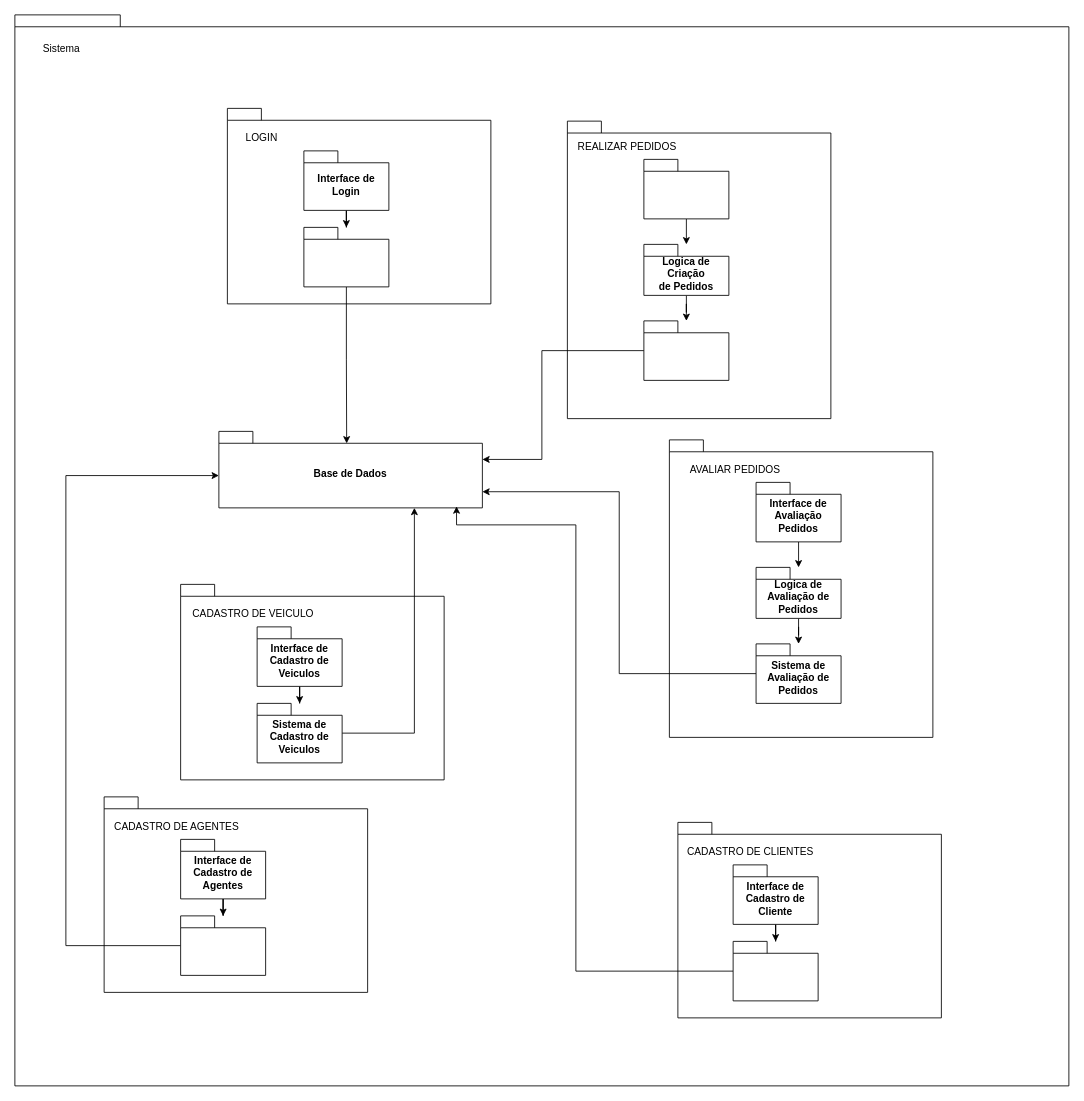
Some shapes in this 1084 by 1101 pixel diagram are drawn without their labels. The centre of each missing label's shape, as x and y in pixels:
"Interface de Criação de Pedidos" goes at (x=686, y=189).
"Sistema de Cadastro de Agentes" goes at (x=223, y=945).
"Sistema de Cadastro de Cliente" goes at (x=775, y=971).
"Sistema de Criação de Pedidos" goes at (x=686, y=350).
"Sistema de Login" goes at (x=346, y=257).
